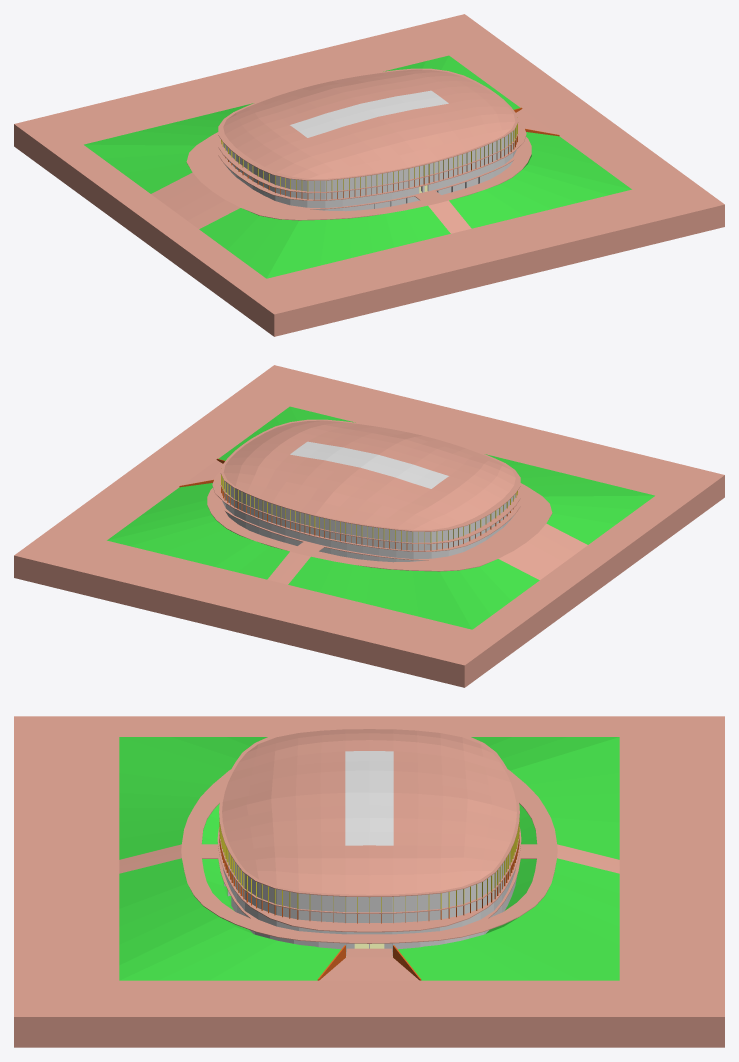
The model's file is palace.fbx.
The picture shows the model from 3 angles, top to bottom: view 1: azimuth 30°, elevation 25°; view 2: azimuth 150°, elevation 25°; view 3: azimuth 270°, elevation 25°; orthographic projection. The views are drawn at different scales.
Parts seen in each view (by area): view 1: Floor.025, Floor.032, Floor.044, Floor.085, Floor.049, Floor.026, Floor.031, Floor.083, Floor.045, Floor.089, Floor.048, Techo.008 (+40 smaller); view 2: Floor.044, Floor.049, Floor.025, Floor.032, Floor.045, Floor.048, Floor.085, Floor.090, Techo.009, Floor.089, Floor.026, Floor.031 (+41 smaller); view 3: Floor.032, Floor.049, Floor.025, Floor.044, Floor.083, Floor.033, Floor.050, Floor.034, Floor.085, Floor.026, Floor.031, Floor.045 (+49 smaller).
Boxes of the visible parts, bbox=[...] form: Floor.025: bbox=[210, 255, 403, 336]; Floor.032: bbox=[548, 157, 724, 260]; Floor.044: bbox=[14, 92, 181, 192]; Floor.085: bbox=[199, 208, 350, 278]; Floor.049: bbox=[326, 14, 528, 74]; Floor.026: bbox=[365, 232, 495, 305]; Floor.031: bbox=[457, 210, 586, 282]; Floor.083: bbox=[512, 132, 631, 202]; Floor.045: bbox=[144, 70, 270, 120]; Floor.089: bbox=[84, 144, 195, 193]; Floor.048: bbox=[235, 48, 361, 96]; Techo.008: bbox=[265, 139, 375, 178]; Floor.044: bbox=[335, 606, 528, 687]; Floor.049: bbox=[14, 508, 190, 611]; Floor.025: bbox=[557, 443, 724, 543]; Floor.032: bbox=[210, 365, 412, 425]; Floor.045: bbox=[243, 583, 373, 656]; Floor.048: bbox=[152, 561, 281, 633]; Floor.085: bbox=[520, 475, 654, 544]; Floor.090: bbox=[344, 565, 471, 629]; Techo.009: bbox=[273, 465, 403, 523]; Floor.089: bbox=[440, 559, 539, 629]; Floor.026: bbox=[468, 421, 594, 471]; Floor.031: bbox=[377, 399, 503, 447]; Floor.032: bbox=[14, 924, 188, 1047]; Floor.049: bbox=[550, 924, 724, 1047]; Floor.025: bbox=[14, 716, 188, 802]; Floor.044: bbox=[550, 716, 724, 802]; Floor.083: bbox=[119, 906, 340, 980]; Floor.033: bbox=[189, 980, 314, 1047]; Floor.050: bbox=[424, 980, 549, 1047]; Floor.034: bbox=[314, 980, 424, 1047]; Floor.085: bbox=[119, 737, 267, 797]; Floor.026: bbox=[14, 802, 119, 863]; Floor.031: bbox=[14, 863, 119, 924]; Floor.045: bbox=[619, 802, 724, 863].
Size of the model in its own units: 18000 by 2927 by 18000.
